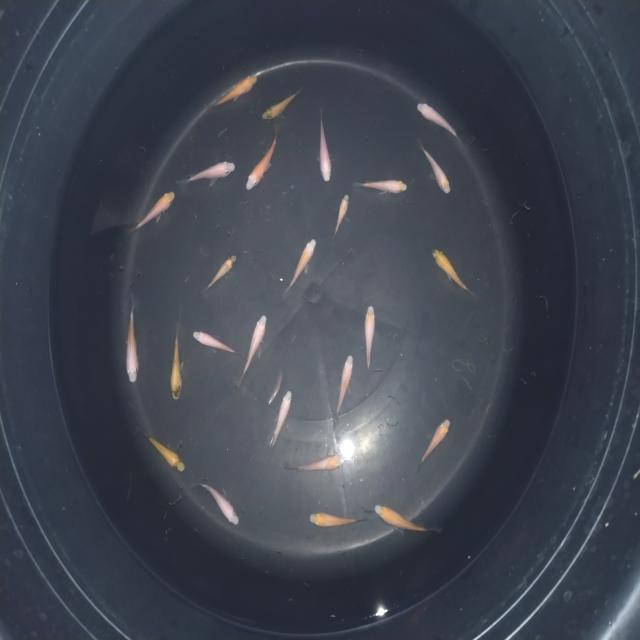nila: (121, 188, 177, 238), (414, 99, 470, 148), (235, 311, 269, 390), (243, 127, 282, 195), (280, 235, 318, 300), (203, 71, 260, 114), (196, 476, 246, 525), (430, 246, 477, 297), (176, 156, 239, 192), (372, 502, 438, 536), (415, 140, 453, 196), (142, 430, 188, 476), (415, 416, 454, 469), (284, 449, 348, 481), (266, 384, 296, 451), (198, 252, 238, 296), (258, 86, 304, 124), (124, 292, 142, 386), (330, 352, 354, 422), (314, 106, 334, 188), (168, 314, 186, 404), (359, 300, 379, 376), (191, 328, 241, 358), (306, 510, 364, 530), (330, 192, 351, 245), (356, 176, 411, 196)
